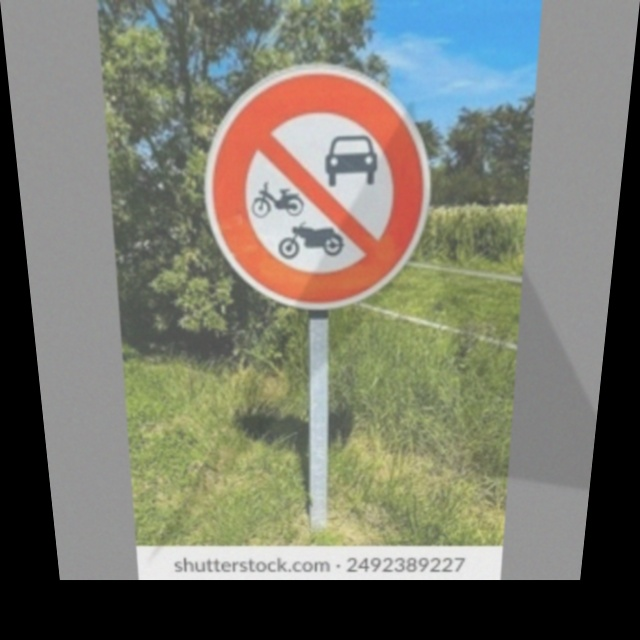All_Motor_Vehicles_Prohibited: (199, 65, 432, 310)
